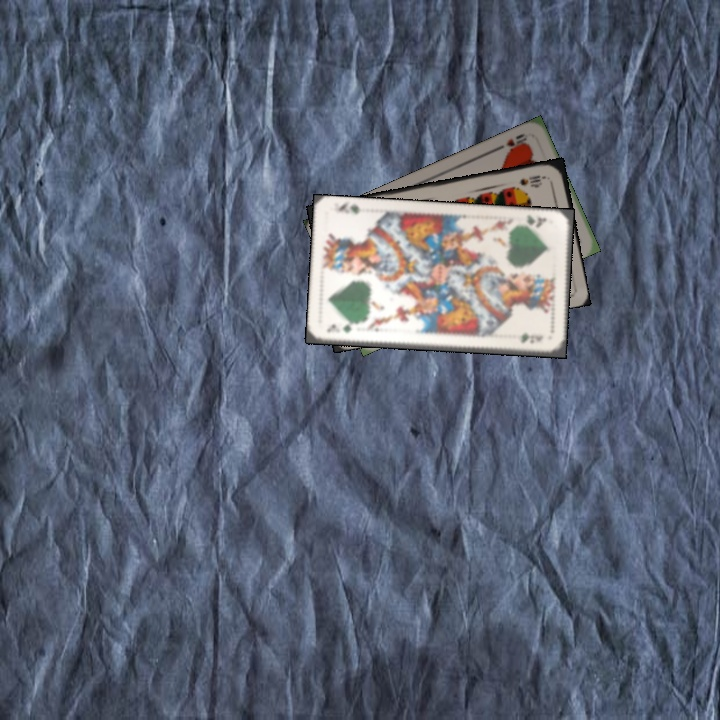GK: (522, 210, 548, 230), (323, 320, 355, 335)
HO: (493, 129, 531, 155)
S10: (515, 171, 548, 188)
